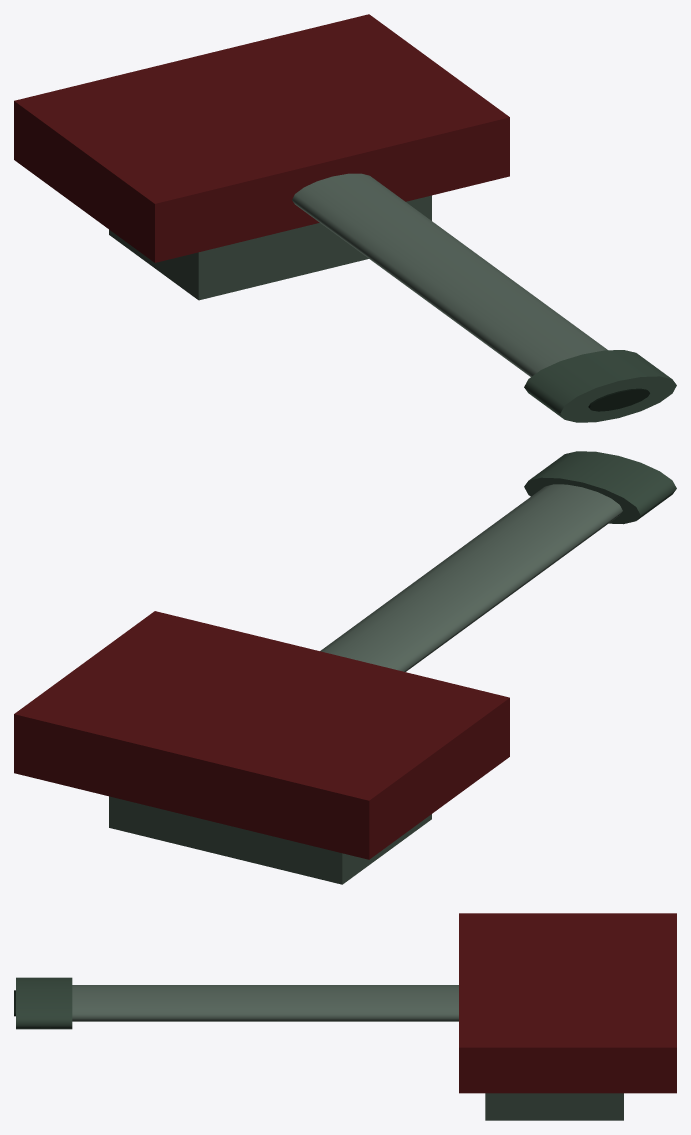
File: CMU3DReduxVehicleTankDragonFlamerMounted.glb
3 views of the same model, one above another, from view 1: azimuth 30°, elevation 25°; view 2: azimuth 150°, elevation 25°; view 3: azimuth 270°, elevation 25° (orthographic). The views are drawn at different scales.
Parts seen in each view (by area): view 1: gun breech, cylindrical gun barrel, weapon mounting yoke, muzzle collar, muzzle bore; view 2: gun breech, cylindrical gun barrel, weapon mounting yoke, muzzle collar; view 3: gun breech, cylindrical gun barrel, weapon mounting yoke, muzzle collar.
Part boxes in pixels (x1,y1,x2,y2): gun breech: (14, 14, 509, 262); cylindrical gun barrel: (292, 173, 607, 376); weapon mounting yoke: (109, 195, 431, 300); muzzle collar: (524, 350, 676, 422); muzzle bore: (588, 388, 649, 411); gun breech: (14, 611, 509, 859); cylindrical gun barrel: (320, 484, 622, 671); weapon mounting yoke: (109, 796, 431, 884); muzzle collar: (524, 451, 676, 524); gun breech: (459, 913, 676, 1093); cylindrical gun barrel: (72, 985, 458, 1021); weapon mounting yoke: (485, 1093, 623, 1120); muzzle collar: (16, 977, 72, 1029).
Bounding box in the file's own units: 1.29 × 0.43 × 2.7.
